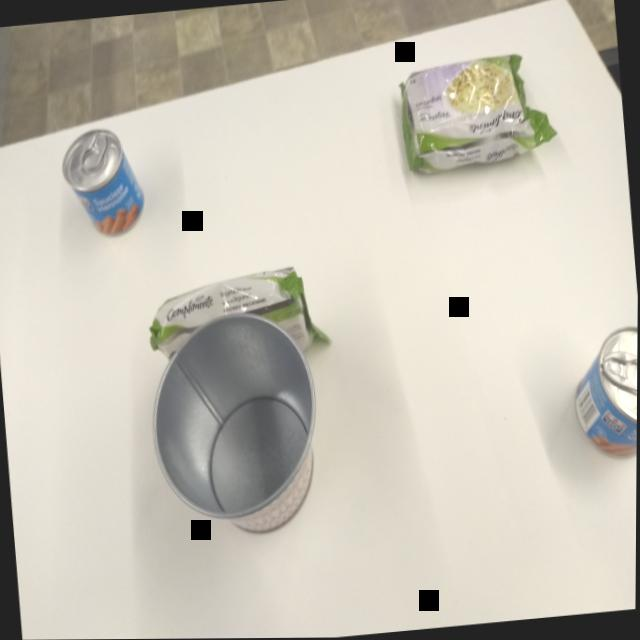noodles: (393, 45, 563, 181), (141, 261, 309, 344)
sausages: (57, 122, 152, 245)
